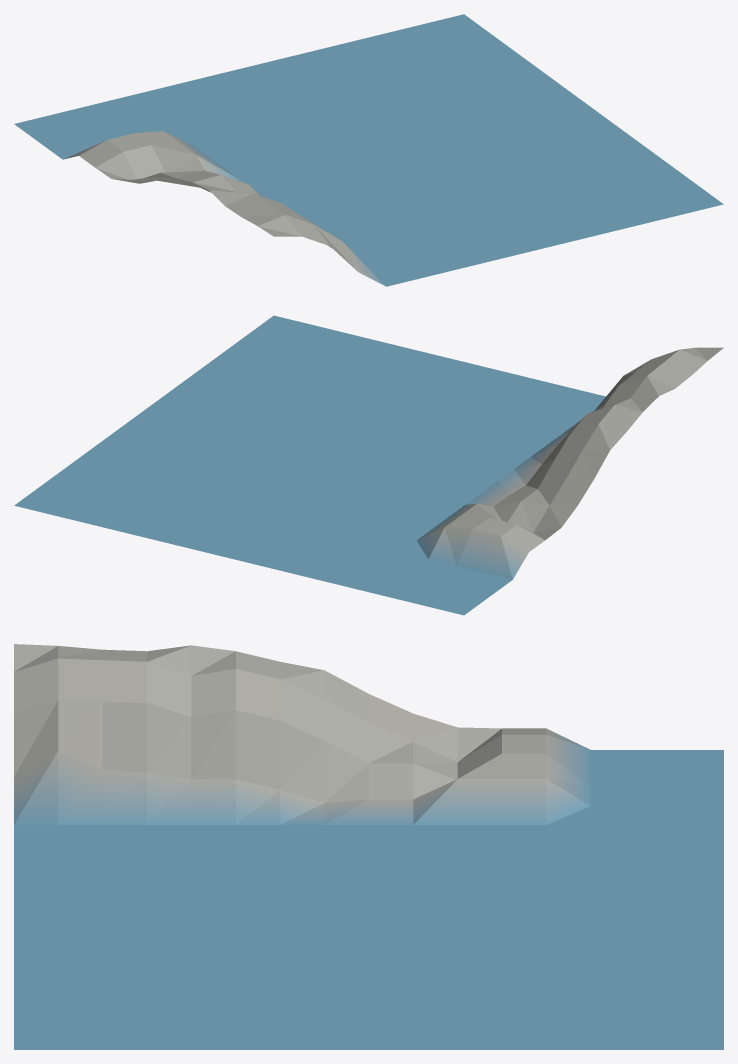
3 views of the same model, one above another, from view 1: azimuth 30°, elevation 25°; view 2: azimuth 150°, elevation 25°; view 3: azimuth 270°, elevation 25° (orthographic). The views are drawn at different scales.
Bounding box in the file's own units: 32 × 5.48 × 32.
